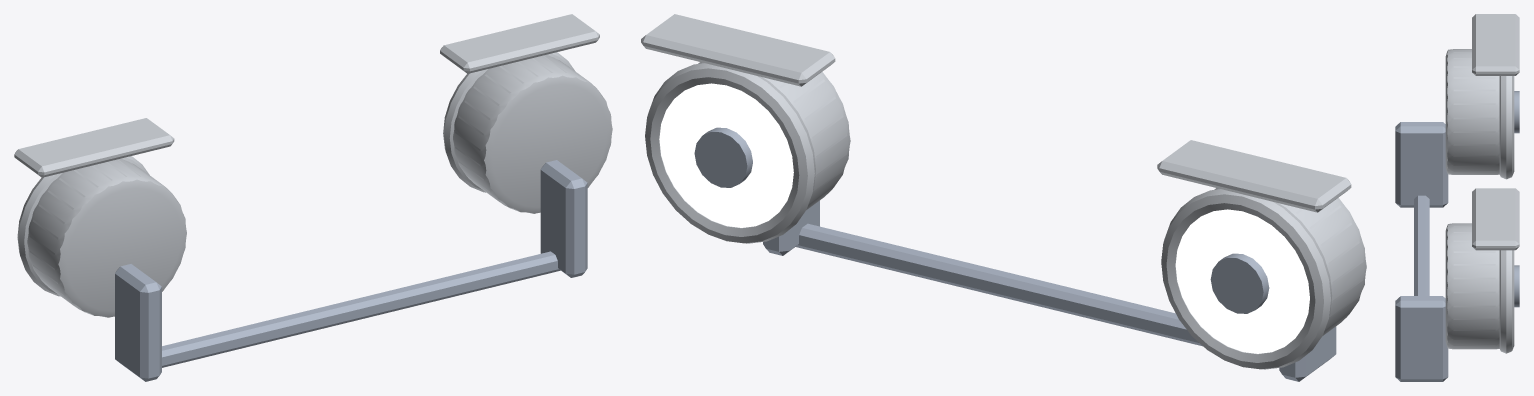
File: aux_round_lamps_pair.glb
3 views of the same model, side by side, from view 1: azimuth 30°, elevation 25°; view 2: azimuth 150°, elevation 25°; view 3: azimuth 270°, elevation 25° (orthographic). The views are drawn at different scales.
Visible parts, largest first — view 1: chrome, steel; view 2: chrome, lamp_white, steel; view 3: chrome, steel.
Part boxes in pixels (box(x1,y1,x2,y2)): chrome: box(14, 14, 612, 317); steel: box(115, 160, 587, 381); chrome: box(641, 14, 1366, 369); lamp_white: box(659, 83, 1309, 353); steel: box(694, 127, 1336, 381); chrome: box(1445, 14, 1519, 353); steel: box(1395, 91, 1519, 381).
Bounding box in the file's own units: 2.07 × 0.69 × 0.47.
